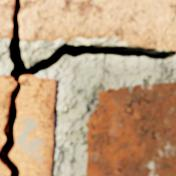brick: (86, 82, 175, 175)
broken_brick: (20, 0, 175, 49), (10, 75, 55, 175), (0, 75, 16, 148), (0, 0, 13, 38), (0, 160, 10, 175)
crack: (0, 0, 175, 175)
